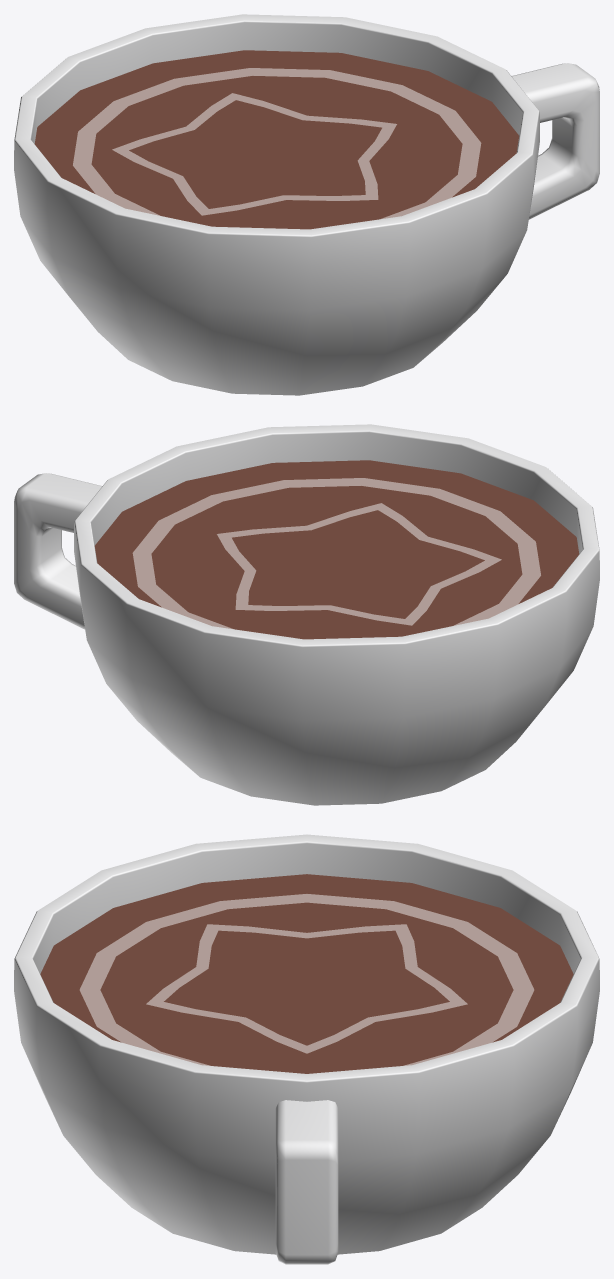
File: Store_5_Cup_Cappuccino_1.glb
The picture shows the model from 3 angles, top to bottom: view 1: azimuth 30°, elevation 25°; view 2: azimuth 150°, elevation 25°; view 3: azimuth 270°, elevation 25°; orthographic projection. The views are drawn at different scales.
Visible parts, largest first — view 1: Store_5_Cup_Cappuccino_1; view 2: Store_5_Cup_Cappuccino_1; view 3: Store_5_Cup_Cappuccino_1.
Part boxes in pixels (left/top/right/bottom): Store_5_Cup_Cappuccino_1: left=14, top=14, right=599, bottom=395; Store_5_Cup_Cappuccino_1: left=14, top=424, right=599, bottom=805; Store_5_Cup_Cappuccino_1: left=14, top=834, right=599, bottom=1264.
Bounding box in the file's own units: 0.2644 × 0.0955 × 0.224.
1 material, 1 textured.
